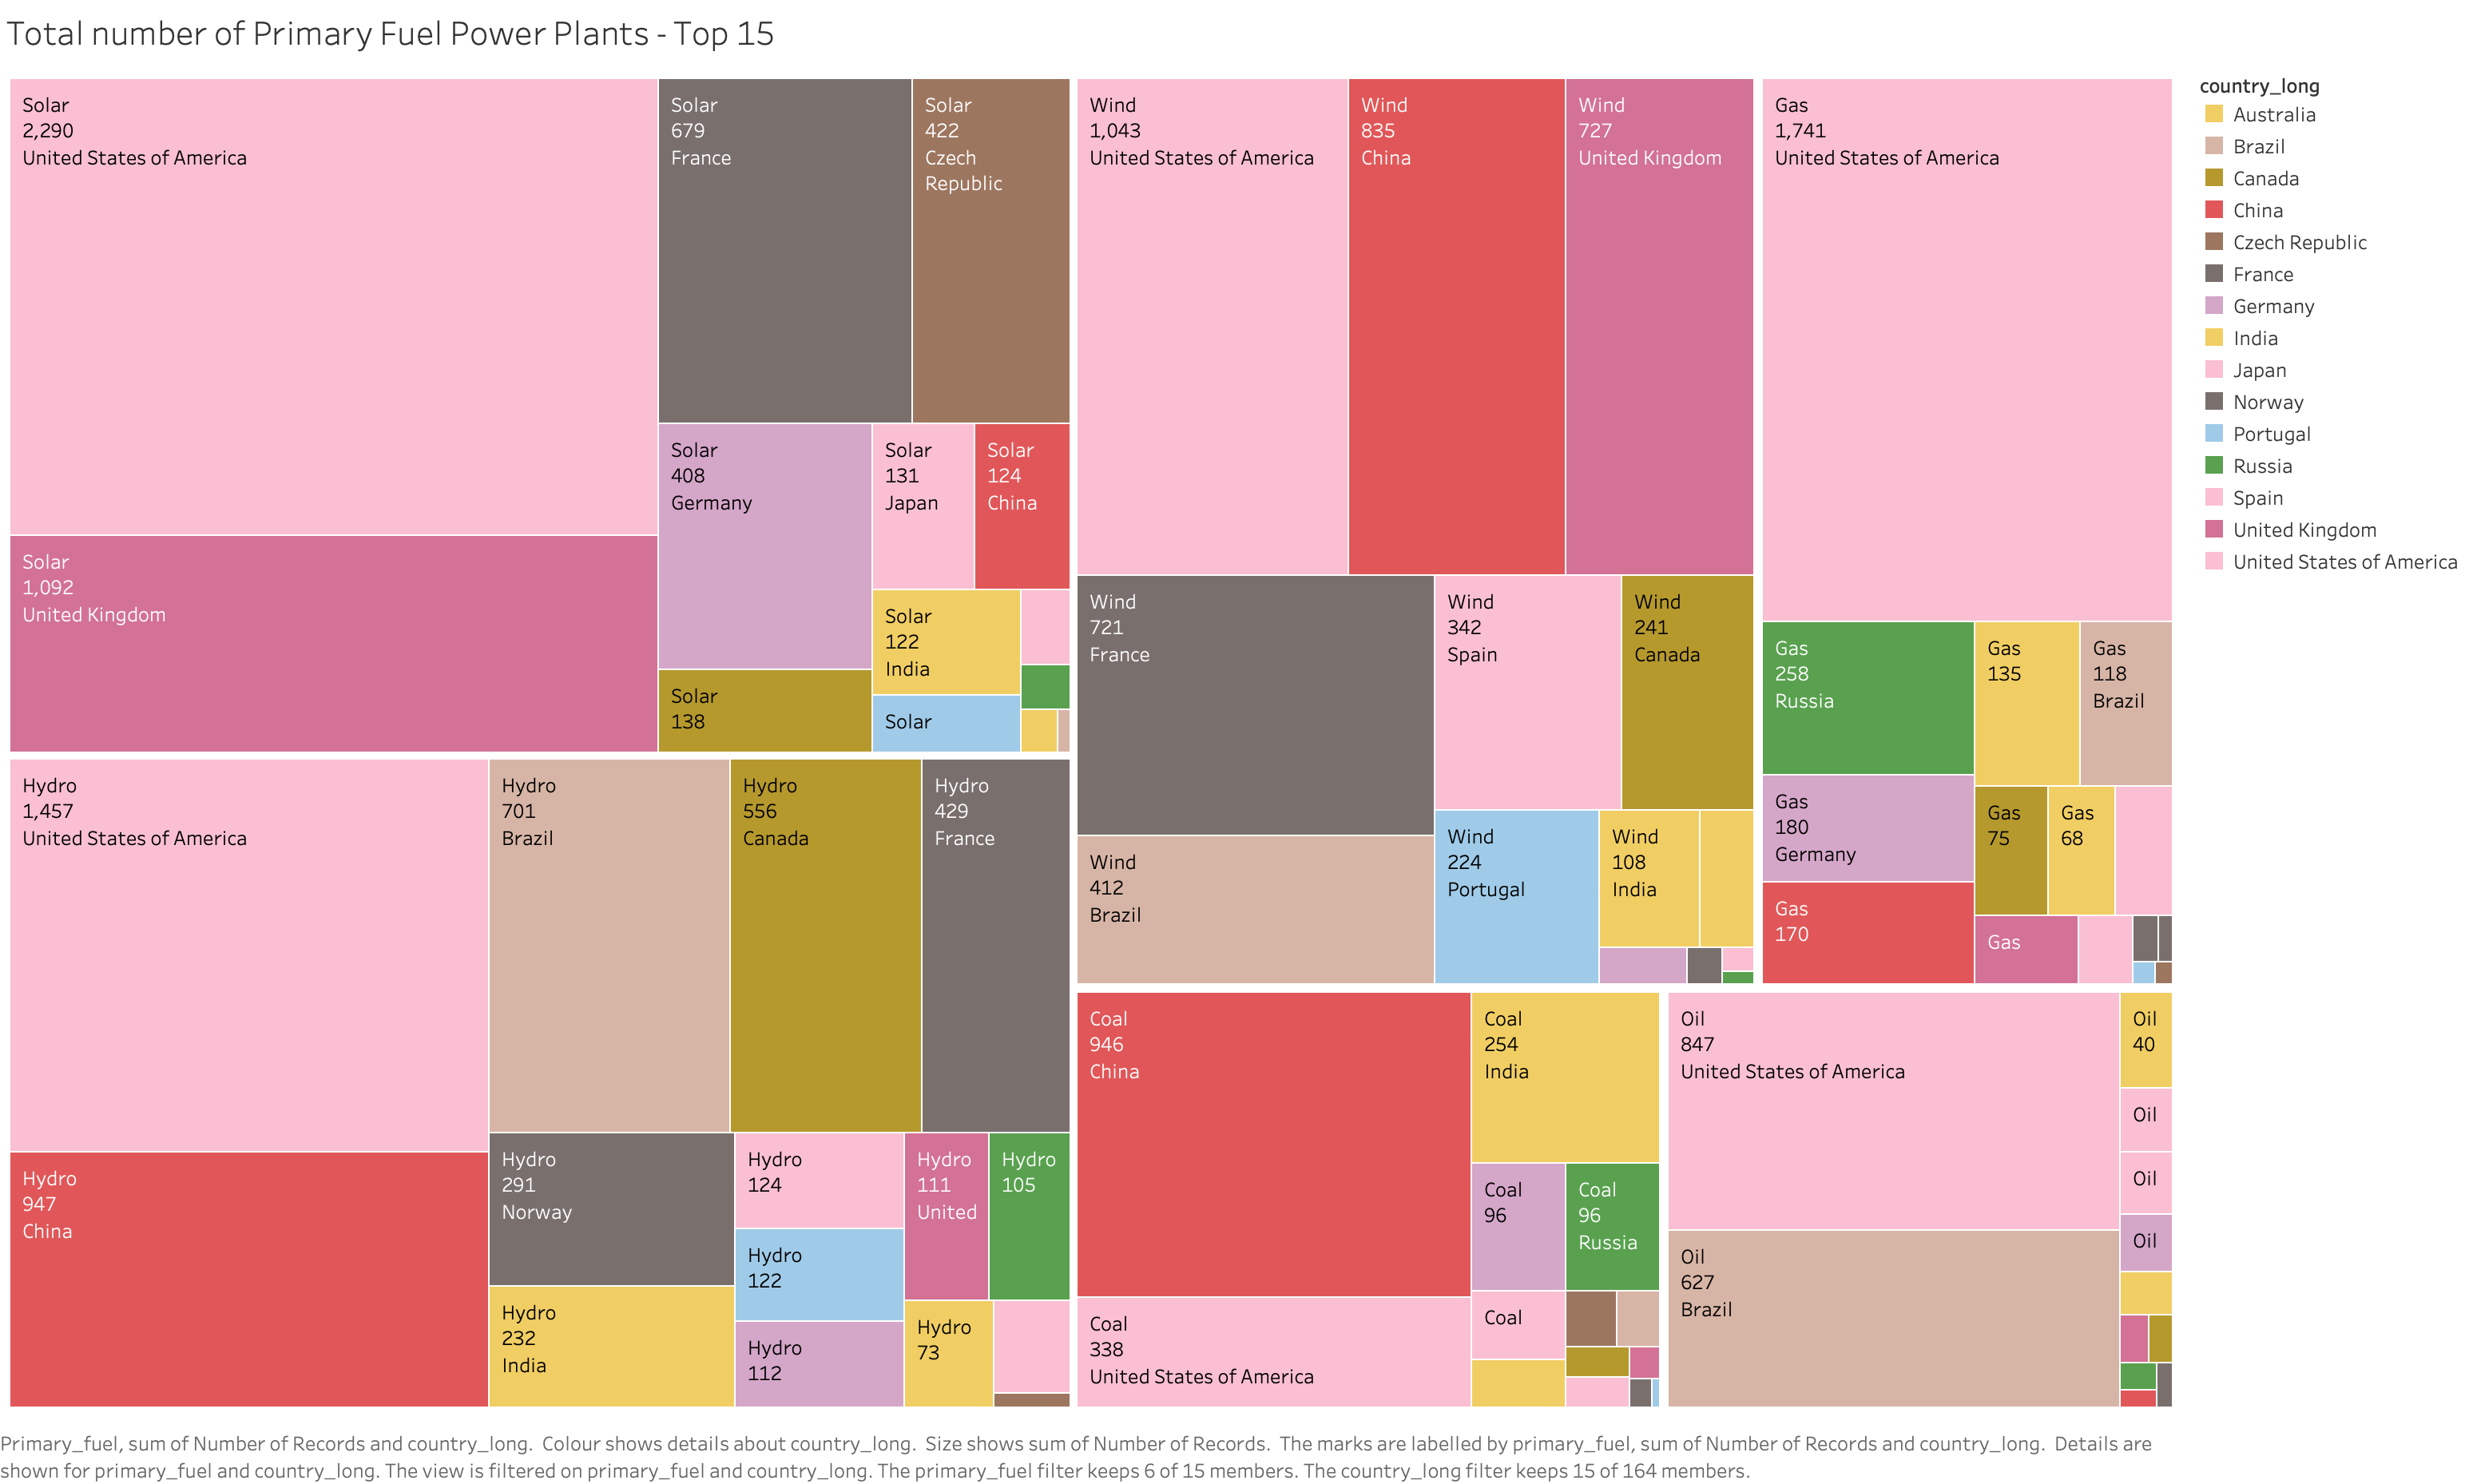

Layout of this report page (visuals, bound fields, positions):
{"tool":"tableau","page":{"name":"Dashboard 1","canvas":[1000,800],"ordinal":0},"visuals":[{"type":"worksheet","title":"Sheet 3","mark":"Automatic","box":[8,8,824,392]},{"type":"legend","title":"Sheet 3","param":"[federated.1jh35lo12rckte1b9hq731qftkwm].[avg:estimated_generation_gwh:qk]","box":[832,8,160,65]},{"type":"legend","title":"Sheet 2","param":"[federated.1jh35lo12rckte1b9hq731qftkwm].[none:primary_fuel:nk]","box":[832,73,160,326]},{"type":"worksheet","title":"Sheet 2","mark":"Automatic","box":[8,400,824,392]}]}

Visuals, with their boxes on the page's 1000x800 design canvas (x1, y1, x2, y2). These are canvas units, not pixel positions in the 2465x1484 screenshot, which may show the page scaled, cropped or inside an application window:
"Sheet 3" worksheet: x1=8 y1=8 x2=832 y2=400
"Sheet 3" legend: x1=832 y1=8 x2=992 y2=73
"Sheet 2" legend: x1=832 y1=73 x2=992 y2=399
"Sheet 2" worksheet: x1=8 y1=400 x2=832 y2=792
